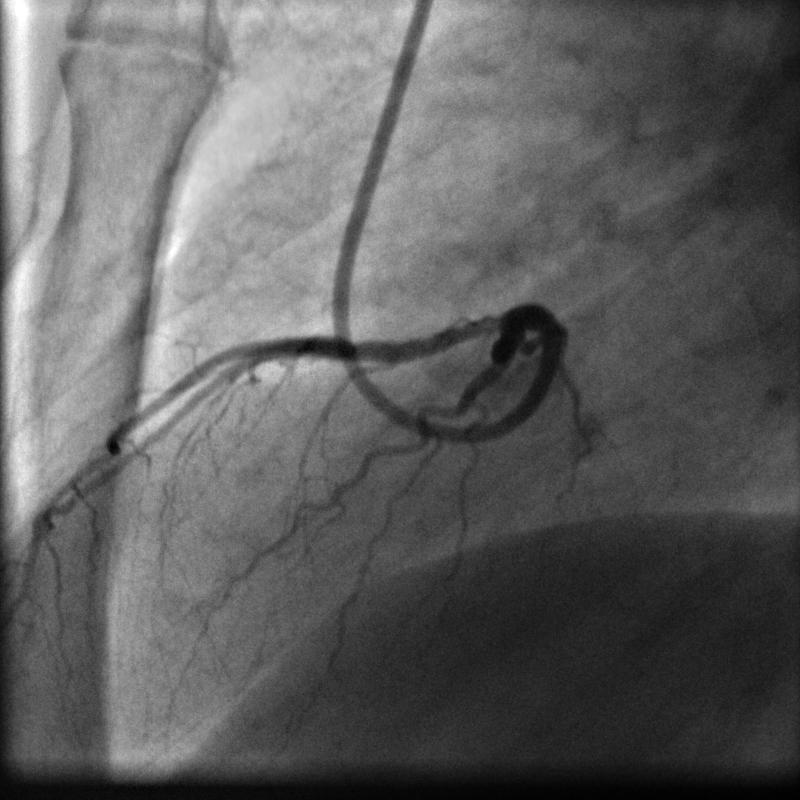Stenosis: (350, 334, 366, 367)
